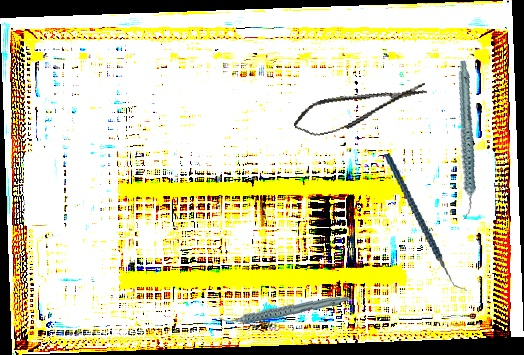Chopper: (384, 145, 467, 300)
Handpiece: (428, 58, 501, 222), (219, 288, 349, 330)
Micro Scissor: (289, 74, 432, 142)
